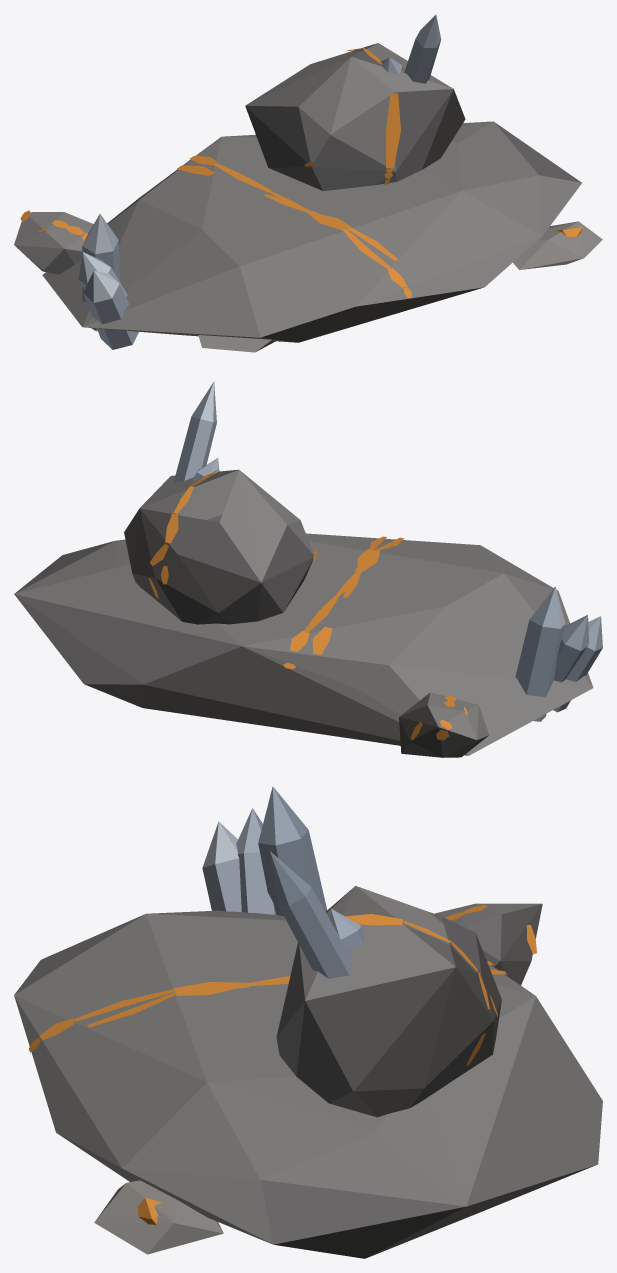
Rendered from rock_lava_1.glb.
3 views of the same model, one above another, from view 1: azimuth 30°, elevation 25°; view 2: azimuth 150°, elevation 25°; view 3: azimuth 270°, elevation 25° (orthographic). The views are drawn at different scales.
Parts seen in each view (by area): view 1: Body; view 2: Body; view 3: Body.
Boxes of the visible parts, x1,y1,x2,y2 form: Body: (14,14,602,352); Body: (14,381,602,757); Body: (14,786,602,1258).
Bounding box in the file's own units: 4.53 × 2.09 × 3.19.
